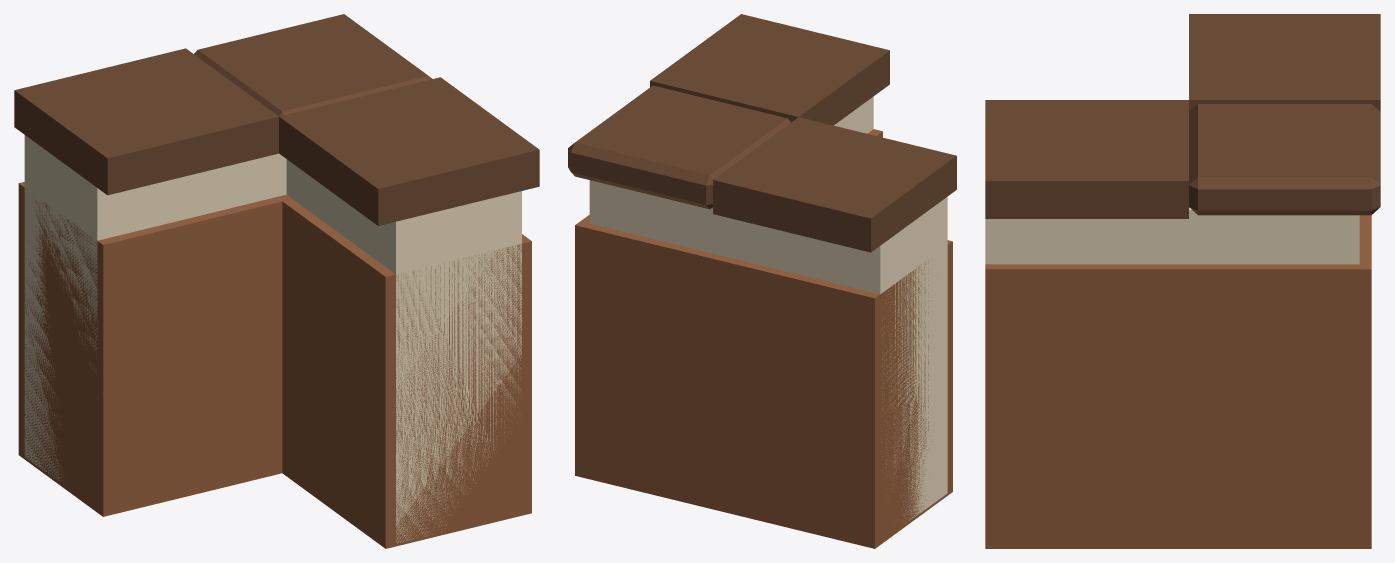
The model's file is wall_low_corner.glb.
The picture shows the model from 3 angles, left to right: view 1: azimuth 30°, elevation 25°; view 2: azimuth 150°, elevation 25°; view 3: azimuth 270°, elevation 25°; orthographic projection. The views are drawn at different scales.
Visible parts, largest first — view 1: wall_low_corner; view 2: wall_low_corner; view 3: wall_low_corner.
Boxes of the visible parts, bbox=[...] form: wall_low_corner: bbox=[14, 14, 539, 548]; wall_low_corner: bbox=[568, 14, 956, 548]; wall_low_corner: bbox=[985, 14, 1380, 548].
Size of the model in its own units: 0.66 by 0.685 by 0.66.
